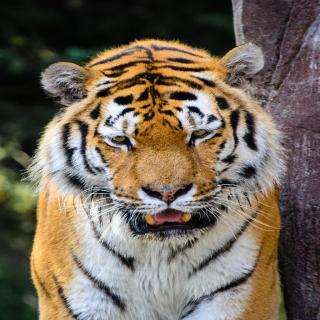Tiger: (19, 38, 292, 320)
